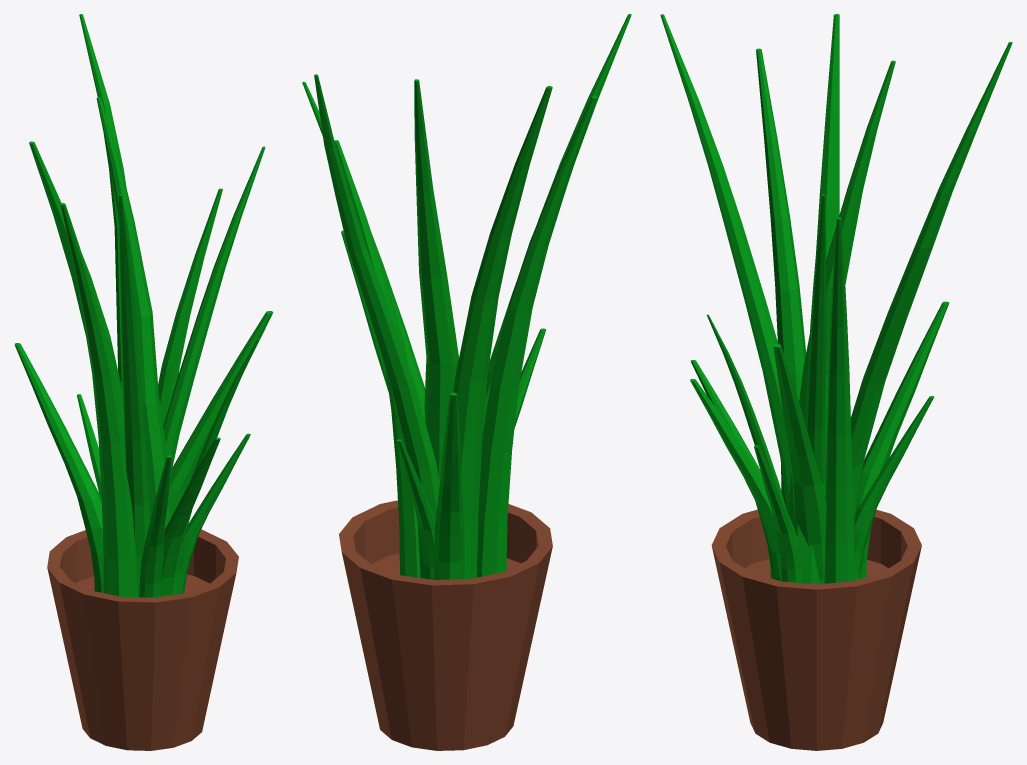
Rendered from plantBig.fbx.
The picture shows the model from 3 angles, left to right: view 1: azimuth 30°, elevation 25°; view 2: azimuth 150°, elevation 25°; view 3: azimuth 270°, elevation 25°; orthographic projection. The views are drawn at different scales.
Parts seen in each view (by area): view 1: Cylinder.001, Cylinder; view 2: Cylinder.001, Cylinder; view 3: Cylinder.001, Cylinder.
Part boxes in pixels (left/top/right/bottom): Cylinder.001: left=14, top=14, right=273, bottom=597; Cylinder: left=47, top=529, right=238, bottom=750; Cylinder.001: left=302, top=14, right=631, bottom=579; Cylinder: left=339, top=500, right=552, bottom=750; Cylinder.001: left=660, top=14, right=1012, bottom=584; Cylinder: left=711, top=509, right=921, bottom=750.
Bounding box in the file's own units: 280 × 729 × 335.
